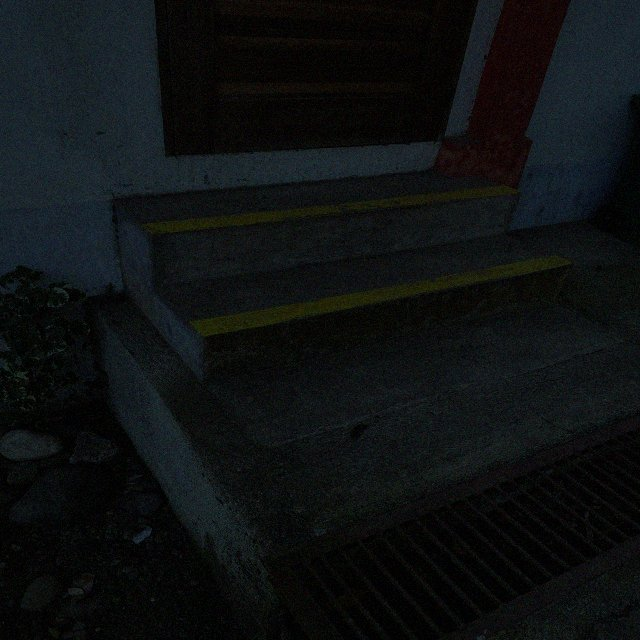stair: (110, 168, 570, 381)
